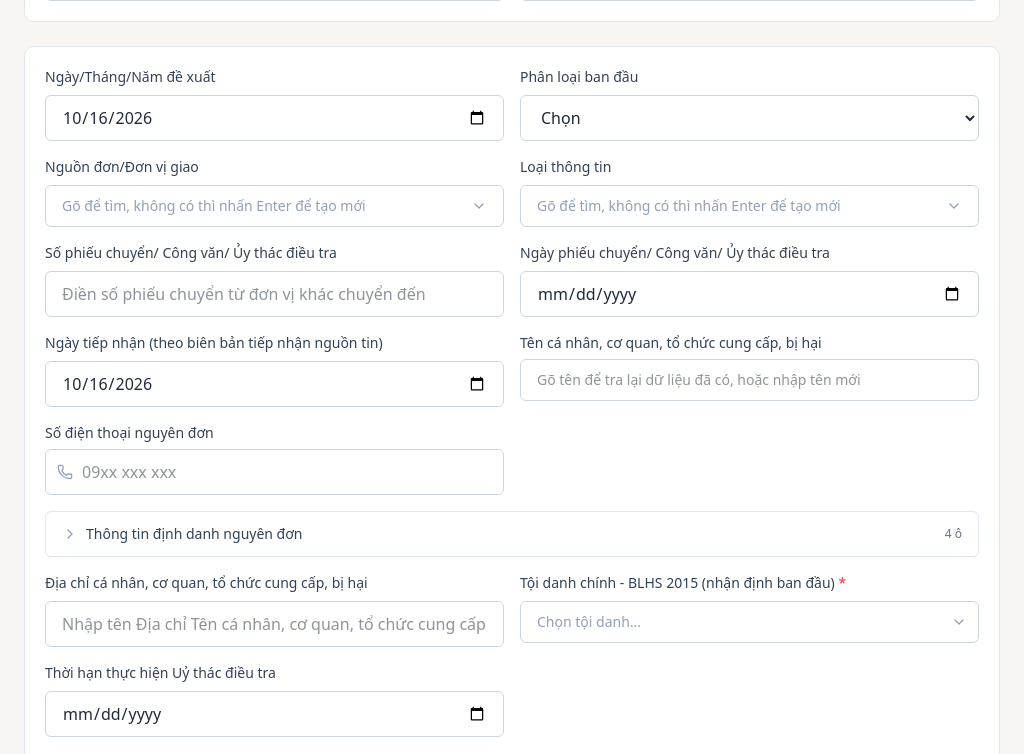
Test: PetitionFormPage — gợi ý từng đơn theo tên người gửi › gõ tên → gọi endpoint MỚI (từng đơn), không còn gọi endpoint chỉ trả "tên + số lần"
The image size is (1024, 754).
(page scrolled)
Type "tran" into the dropdown with test id "field-senderName" at [750, 380], box [520, 359, 979, 401]
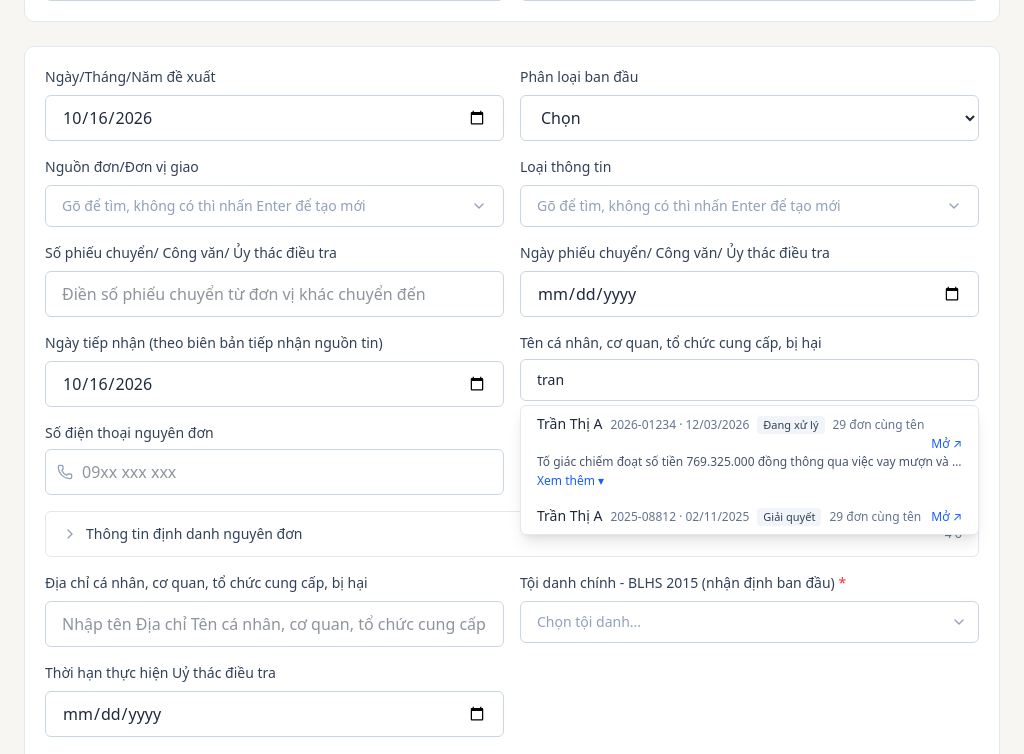
Expected: the list with test id "field-senderName-goi-y" is shown, [520, 405, 979, 535]
